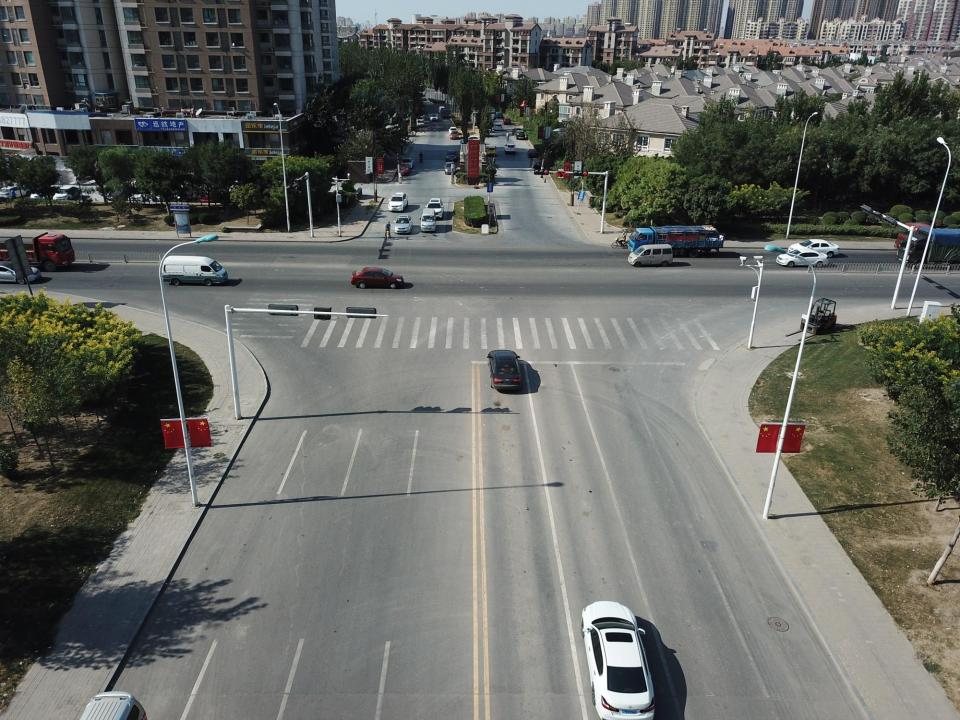car: (581, 601, 655, 720), (487, 350, 522, 391), (351, 267, 405, 289), (776, 248, 828, 268), (787, 239, 840, 258), (0, 261, 41, 284), (52, 185, 82, 202), (0, 184, 33, 199), (394, 214, 412, 234), (397, 163, 411, 176), (444, 162, 456, 174), (504, 144, 516, 155), (446, 150, 456, 162), (486, 145, 497, 155), (530, 158, 541, 168), (402, 158, 413, 168), (528, 148, 537, 159), (514, 130, 526, 138), (448, 127, 458, 136), (416, 118, 425, 128), (450, 130, 458, 140), (503, 117, 511, 126), (512, 128, 522, 135), (493, 124, 502, 131), (494, 111, 503, 118), (430, 114, 438, 121)
truck: (0, 231, 75, 272), (627, 226, 724, 256), (895, 227, 960, 269), (894, 222, 960, 256), (439, 106, 449, 119)
van: (161, 256, 228, 286), (628, 244, 673, 268), (388, 192, 408, 212), (425, 198, 444, 219), (420, 209, 437, 231)
